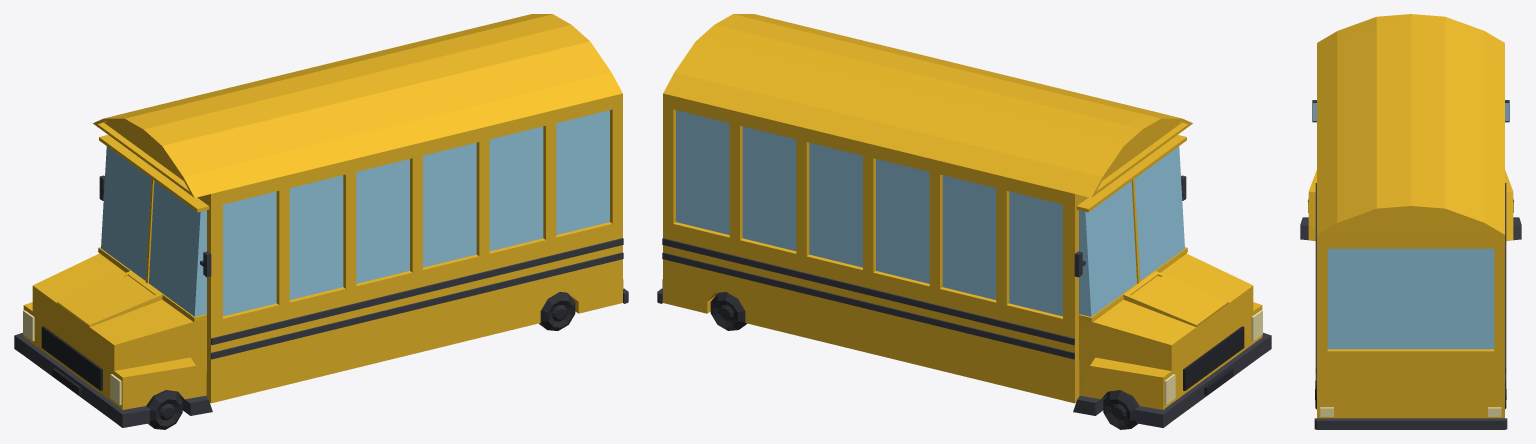
File: onibus_escolar.glb
3 views of the same model, side by side, from view 1: azimuth 30°, elevation 25°; view 2: azimuth 150°, elevation 25°; view 3: azimuth 270°, elevation 25° (orthographic). The views are drawn at different scales.
Visible parts, largest first — view 1: onibus_escolar; view 2: onibus_escolar; view 3: onibus_escolar.
Boxes of the visible parts, x1,y1,x2,y2 form: onibus_escolar: (14, 14, 628, 429); onibus_escolar: (657, 14, 1271, 429); onibus_escolar: (1300, 14, 1521, 429).
Bounding box in the file's own units: 9.5 × 4.52 × 3.87.
